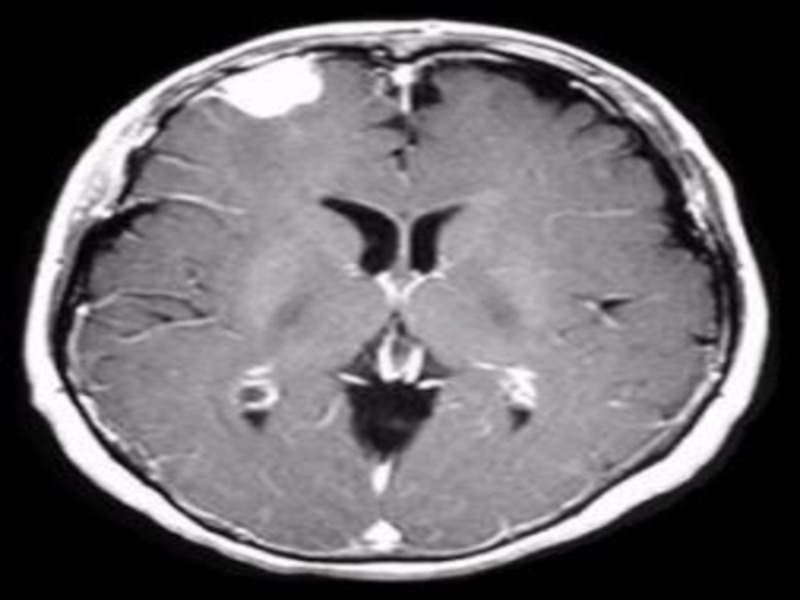tumor: (216, 61, 337, 135)
